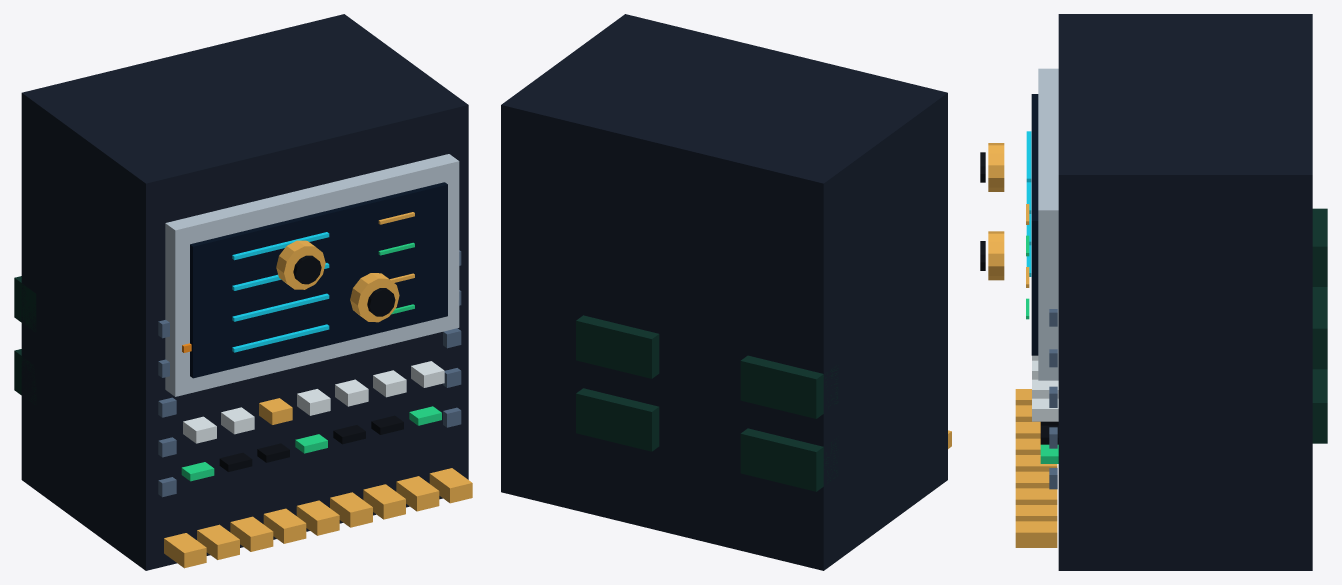
The model's file is 89_L91_AttitudeMonitor.fbx.
3 renders of one model, left to right at view 1: azimuth 30°, elevation 25°; view 2: azimuth 150°, elevation 25°; view 3: azimuth 270°, elevation 25°, orthographic. The views are drawn at different scales.
Parts seen in each view (by area): view 1: L91_AttitudeMonitor, L91_AttitudeMonitor_Part_0013, L91_AttitudeMonitor_Part_0011, L91_AttitudeMonitor_Part_0012, L91_AttitudeMonitor_Part_0014; view 2: L91_AttitudeMonitor; view 3: L91_AttitudeMonitor, L91_AttitudeMonitor_Part_0013, L91_AttitudeMonitor_Part_0011.
Boxes of the visible parts, box(x1,y1,x2,y2) form: L91_AttitudeMonitor: box(14, 14, 472, 570); L91_AttitudeMonitor_Part_0013: box(350, 273, 399, 322); L91_AttitudeMonitor_Part_0011: box(276, 240, 325, 289); L91_AttitudeMonitor_Part_0012: box(293, 255, 321, 284); L91_AttitudeMonitor_Part_0014: box(367, 288, 395, 316); L91_AttitudeMonitor: box(501, 14, 951, 570); L91_AttitudeMonitor: box(1015, 14, 1327, 570); L91_AttitudeMonitor_Part_0013: box(988, 231, 1004, 280); L91_AttitudeMonitor_Part_0011: box(988, 143, 1004, 191).
Size of the model in its own units: 100 by 115 by 91.63.
